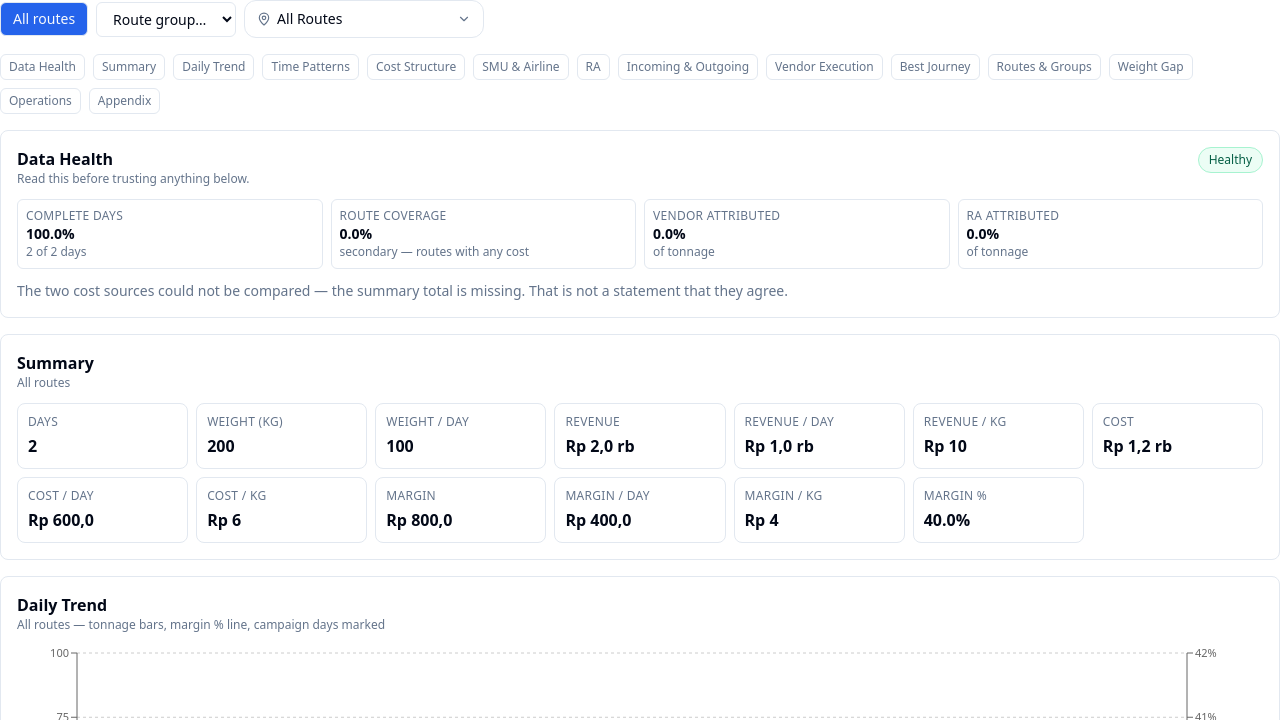
Test case: PnlAnalyticsView › offers the picker exactly the routes the loaded period carries
Click the button "All Routes": click(364, 19) [244,0,484,38]
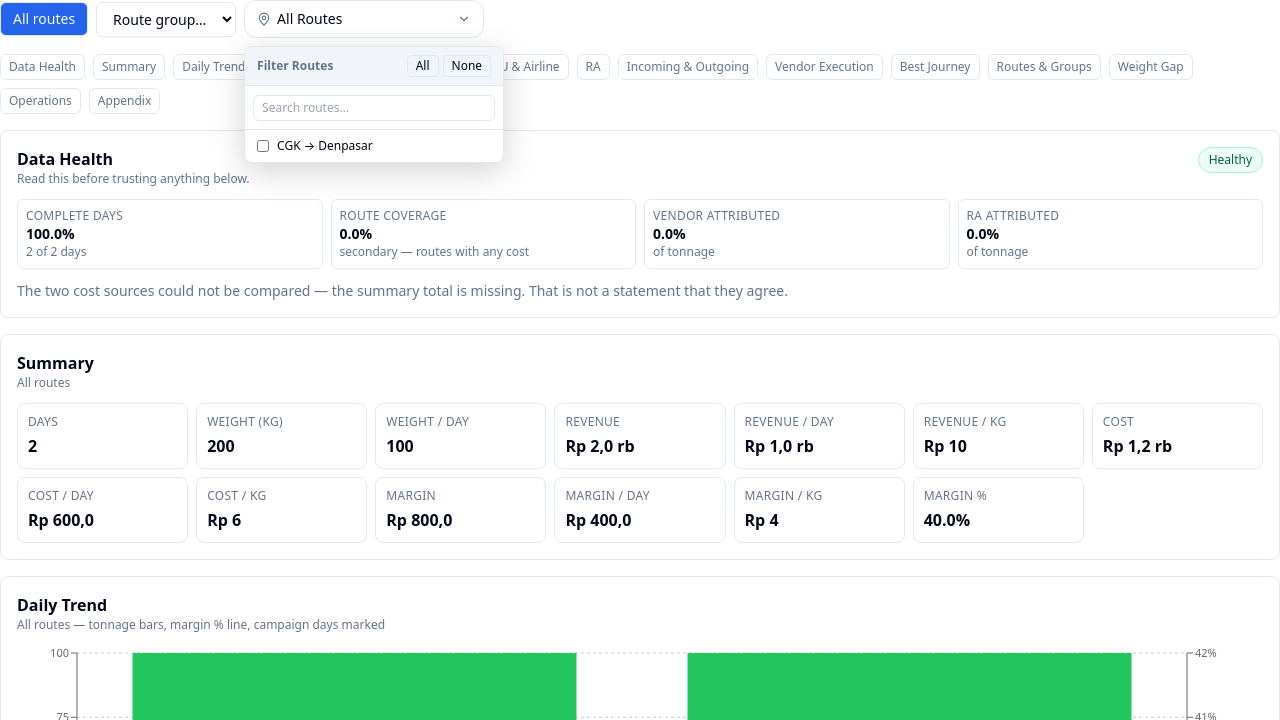
Expected: the checkbox labelled "CGK → Denpasar" is shown, [257,140,269,152]
